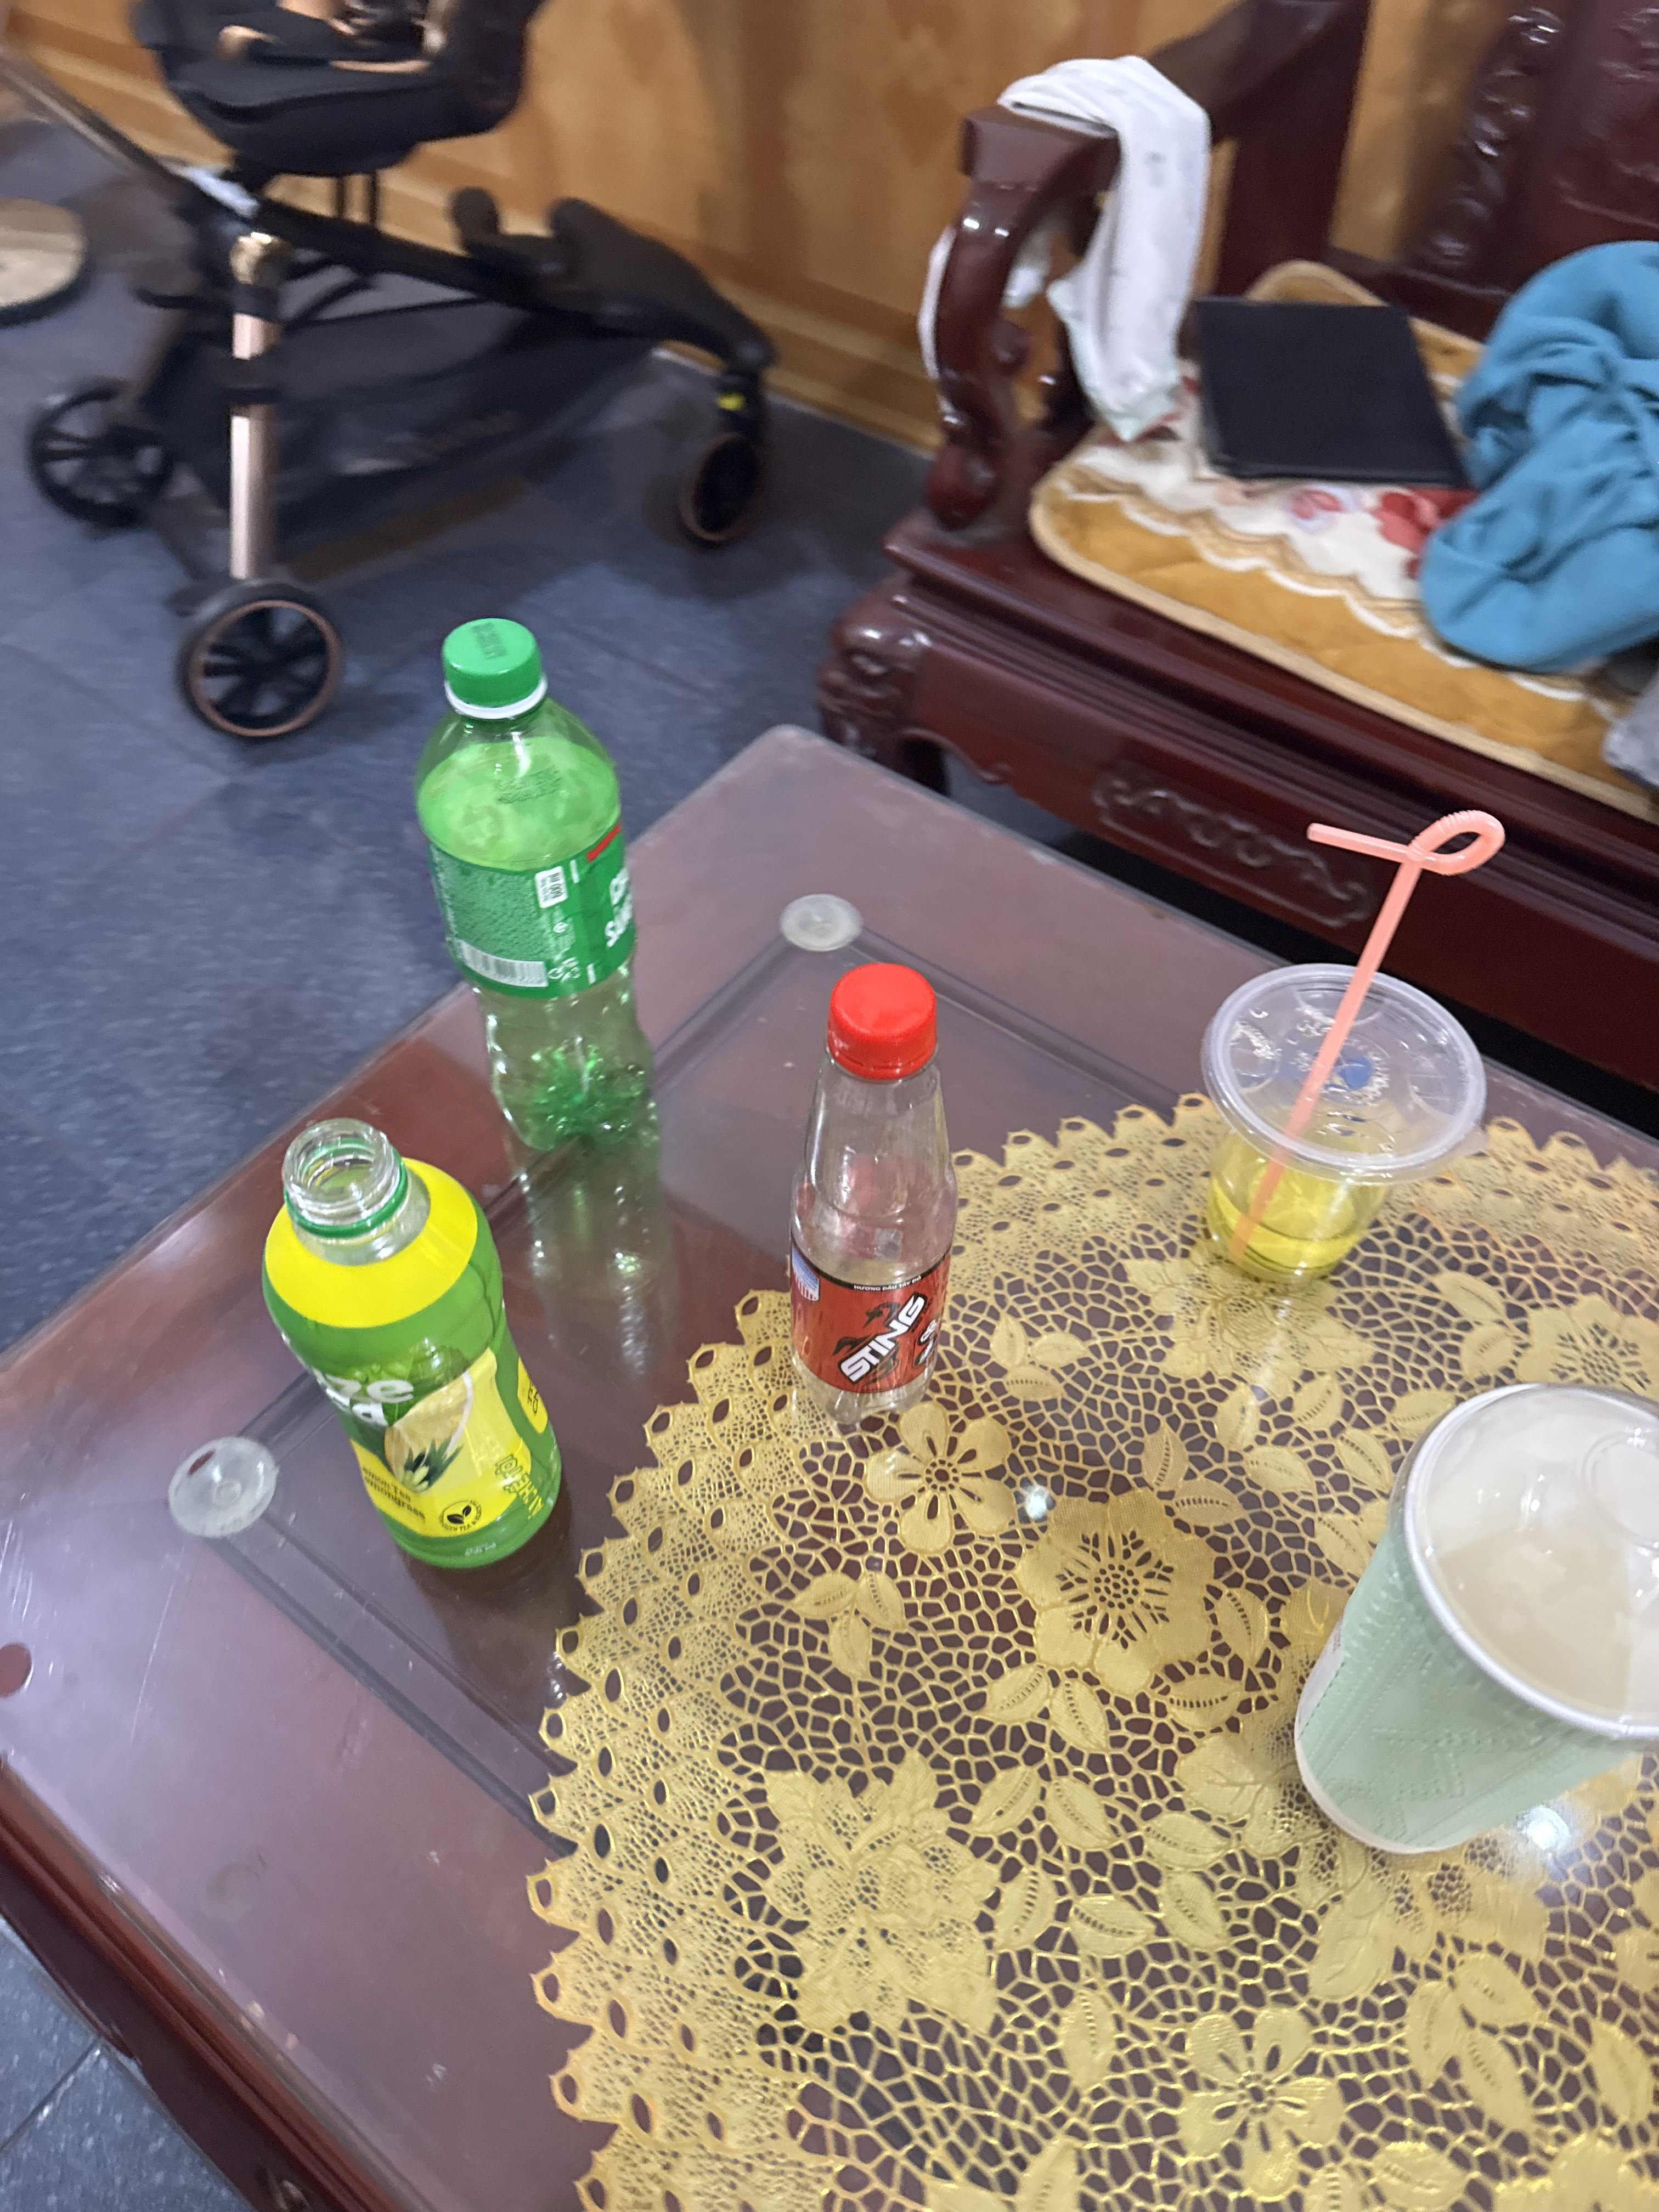2: (1216, 1320, 1659, 1956), (1159, 916, 1506, 1339)
bottle: (211, 1094, 652, 1599), (373, 587, 735, 1181), (749, 937, 997, 1465)
